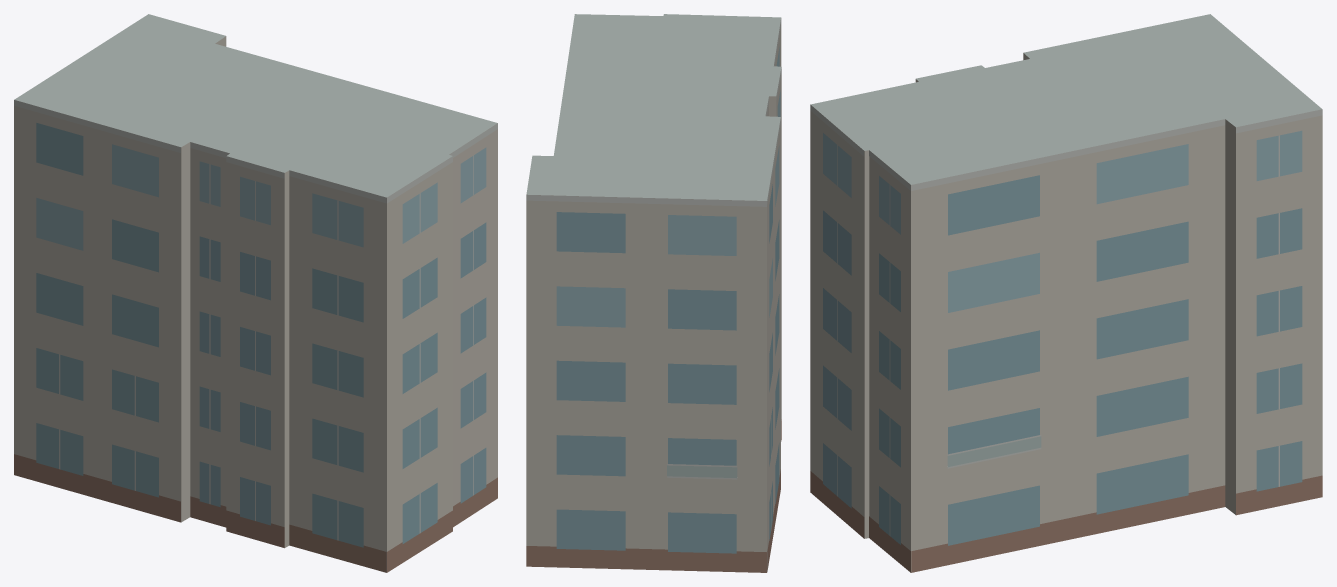
Rendered from survey-upis-32916319.glb.
The picture shows the model from 3 angles, left to right: view 1: azimuth 30°, elevation 25°; view 2: azimuth 150°, elevation 25°; view 3: azimuth 270°, elevation 25°; orthographic projection. The views are drawn at different scales.
Visible parts, largest first — view 1: survey-upis-32916319.tmp; view 2: survey-upis-32916319.tmp; view 3: survey-upis-32916319.tmp.
Part boxes in pixels (x1,y1,x2,y2): survey-upis-32916319.tmp: (14,14,497,572); survey-upis-32916319.tmp: (526,14,781,572); survey-upis-32916319.tmp: (810,14,1322,572).
Bounding box in the file's own units: 14.57 × 15.4 × 18.44.
